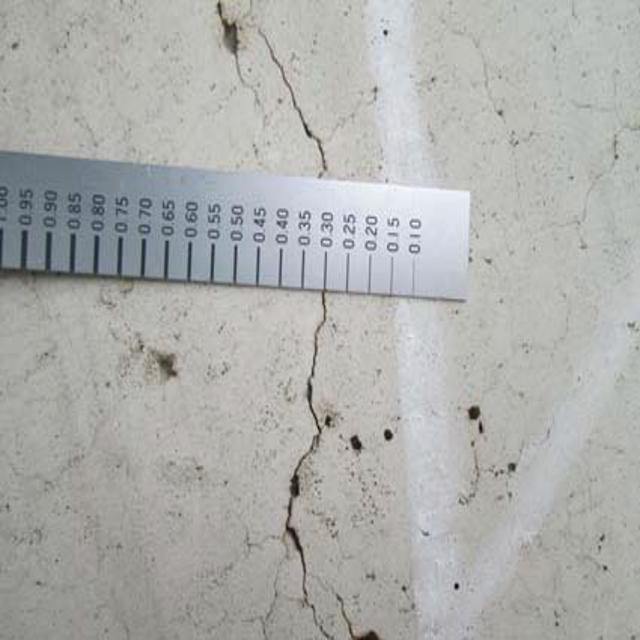crack: (271, 294, 356, 640), (206, 14, 340, 179)
